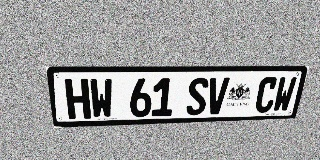1: (152, 78, 174, 116)
6: (130, 78, 152, 117)
C: (254, 77, 279, 113)
H: (64, 79, 91, 119)
S: (186, 78, 209, 115)
V: (206, 77, 230, 115)
W: (89, 78, 113, 119), (272, 77, 297, 112)
